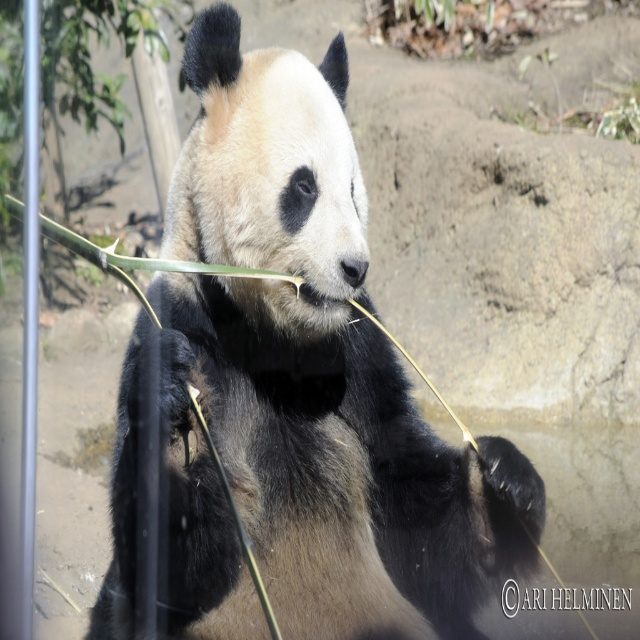Panda: (78, 0, 545, 639)
